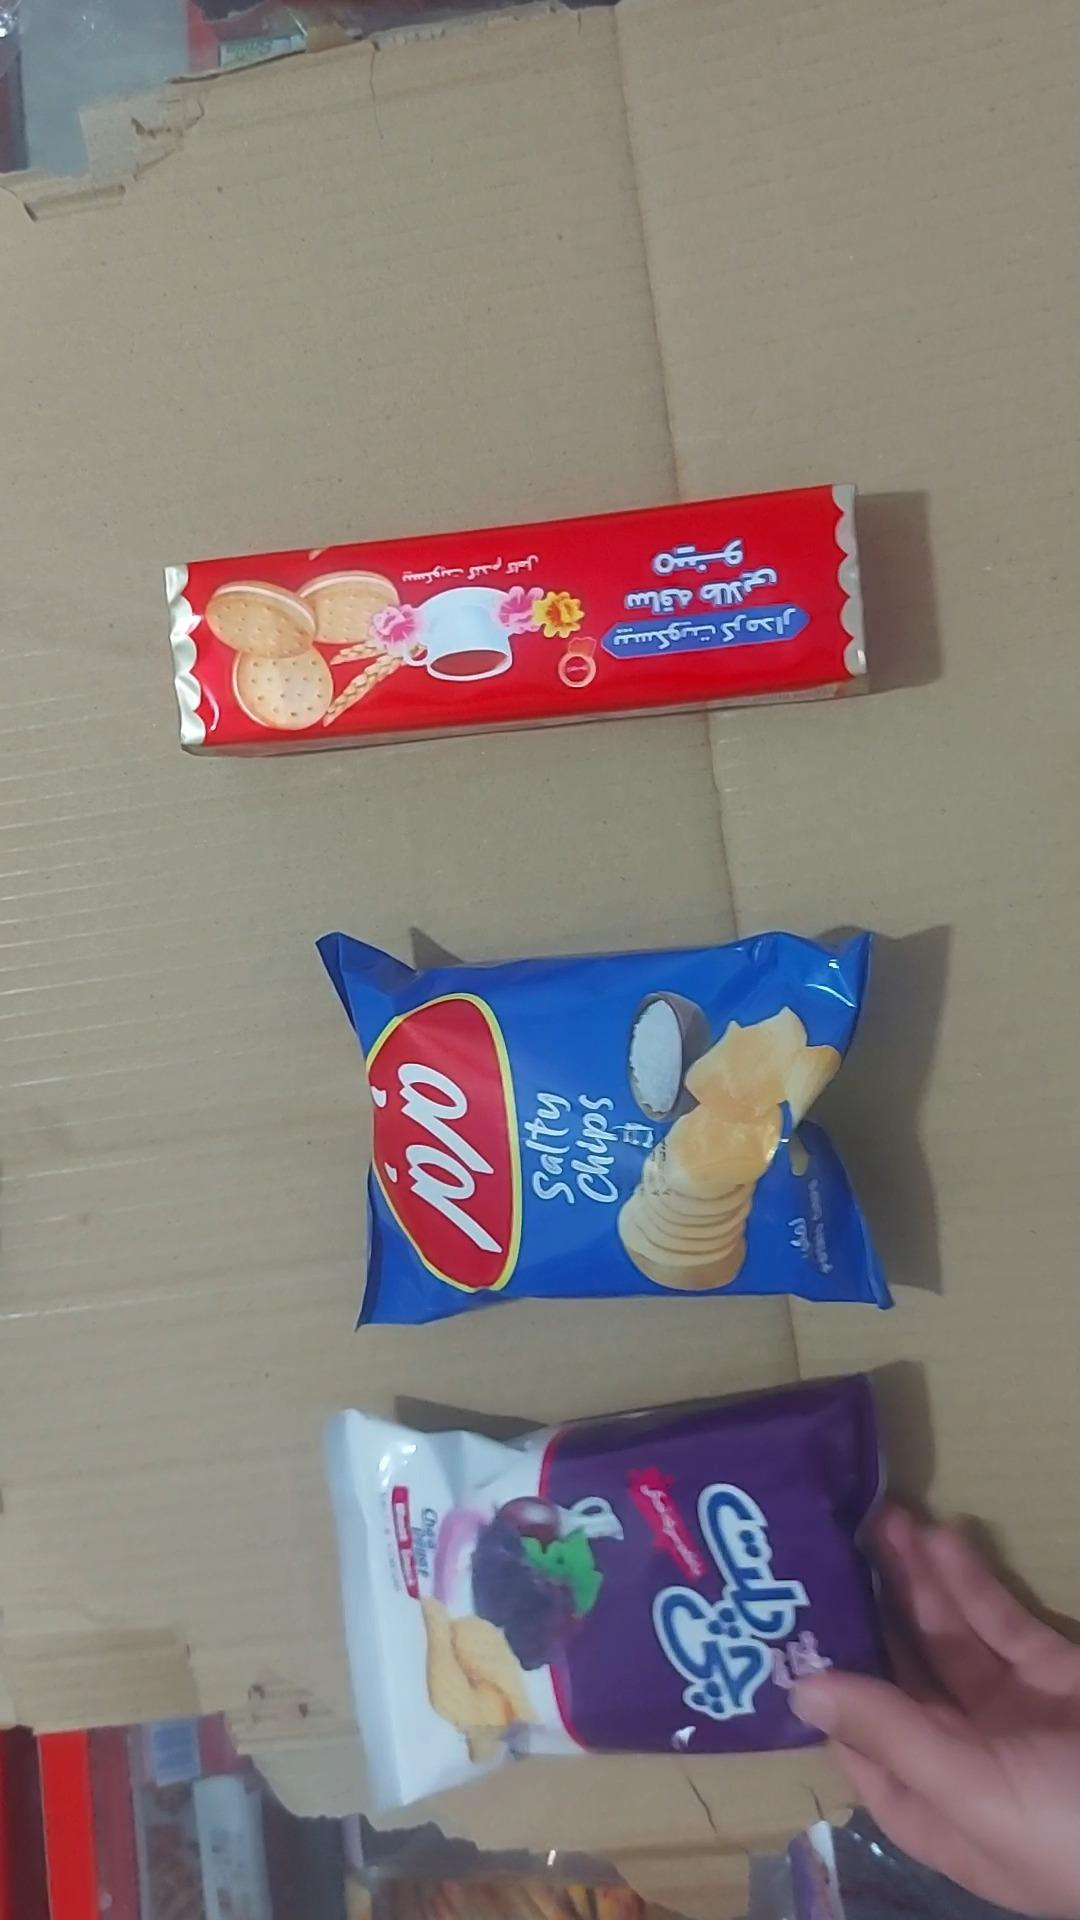Chee pellet vinegar: (326, 1378, 887, 1807)
Maz Maz salty chips: (319, 934, 889, 1324)
Minoo cream biscuit: (166, 487, 868, 754)
